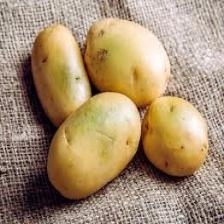Defected potato: (40, 92, 146, 202), (84, 8, 173, 108), (28, 20, 96, 128), (140, 84, 208, 187)
